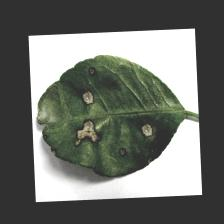canker: (34, 69, 162, 161)
